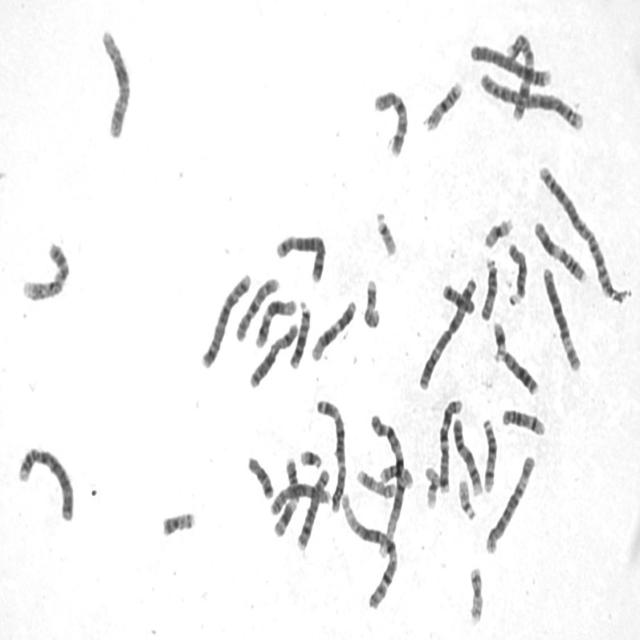A1: (337, 487, 401, 611), (367, 407, 408, 555)
A2: (535, 160, 617, 301), (477, 66, 586, 132)
A3: (416, 273, 478, 392), (314, 392, 348, 514)
B4: (14, 439, 76, 523), (467, 38, 553, 88)
B5: (198, 267, 252, 370), (273, 228, 327, 284)
C10: (232, 270, 281, 344), (370, 82, 410, 159)
C11: (530, 214, 588, 284), (271, 452, 300, 539)
C12: (308, 294, 358, 363), (252, 292, 298, 349)
C6: (481, 448, 537, 556), (539, 261, 583, 375)
C7: (497, 21, 542, 125), (436, 392, 464, 495)
C8: (293, 464, 331, 552), (266, 476, 332, 517)
C9: (18, 236, 70, 303), (449, 413, 484, 497)
D13: (496, 345, 540, 397), (286, 295, 312, 370)
D14: (499, 403, 547, 438), (478, 413, 498, 495)
D15: (504, 237, 529, 306), (477, 253, 499, 322)
E16: (421, 74, 464, 132), (376, 459, 414, 490)
E17: (352, 464, 397, 499), (360, 274, 381, 330)
E18: (244, 451, 275, 502), (439, 277, 476, 316)
F19: (480, 212, 514, 250), (421, 460, 441, 511)
F20: (158, 505, 197, 538), (466, 561, 485, 626)
G21: (489, 316, 508, 364), (297, 444, 323, 471)
G22: (372, 206, 398, 258), (454, 474, 478, 522)
X: (98, 23, 132, 140), (246, 318, 299, 390)
